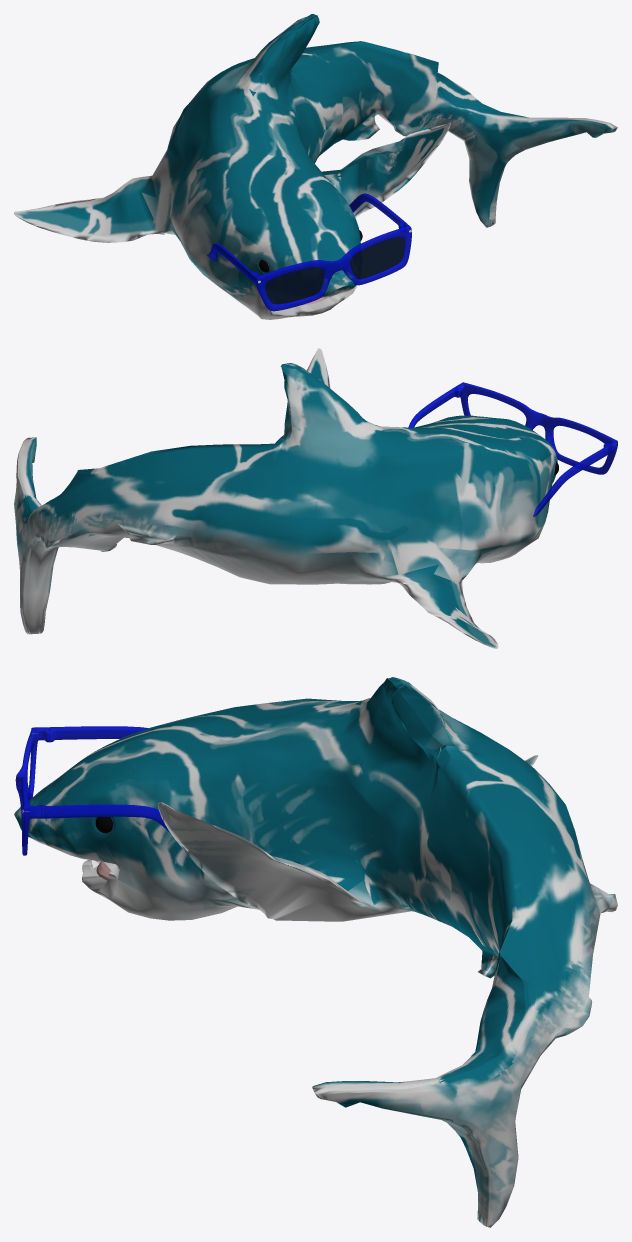
Rendered from Pose_sharky_01.glb.
3 views of the same model, one above another, from view 1: azimuth 30°, elevation 25°; view 2: azimuth 150°, elevation 25°; view 3: azimuth 270°, elevation 25° (orthographic). The views are drawn at different scales.
Visible parts, largest first — view 1: bob, Cube.011, Cube.013; view 2: bob, Cube.011; view 3: bob, Cube.011.
Boxes of the visible parts, x1,y1,x2,y2 form: bob: (14,14,617,319); Cube.011: (207,193,411,311); Cube.013: (265,237,404,304); bob: (14,348,557,648); Cube.011: (408,382,617,516); bob: (14,677,617,1227); Cube.011: (15,726,170,855).
Size of the model in its own units: 4.12 by 2.13 by 2.92.
6 materials, 1 textured.
